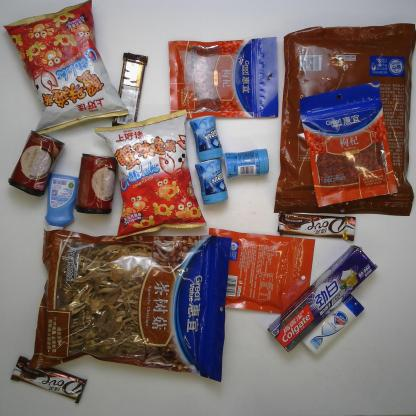Canned Food: (7, 130, 65, 197), (74, 152, 119, 216)
Chocolate: (10, 355, 88, 404), (111, 51, 149, 130), (277, 209, 356, 242)
Dried Food: (29, 228, 232, 383), (273, 22, 416, 217)
Dried Fruit: (299, 79, 399, 208), (209, 227, 316, 315), (168, 36, 280, 120)
Gum: (194, 158, 229, 205), (189, 115, 224, 161), (223, 148, 269, 179)
Personal Hygiene: (267, 245, 379, 354), (300, 293, 366, 356), (44, 173, 79, 234)
Puffed Food: (3, 0, 129, 135), (94, 107, 207, 240)
